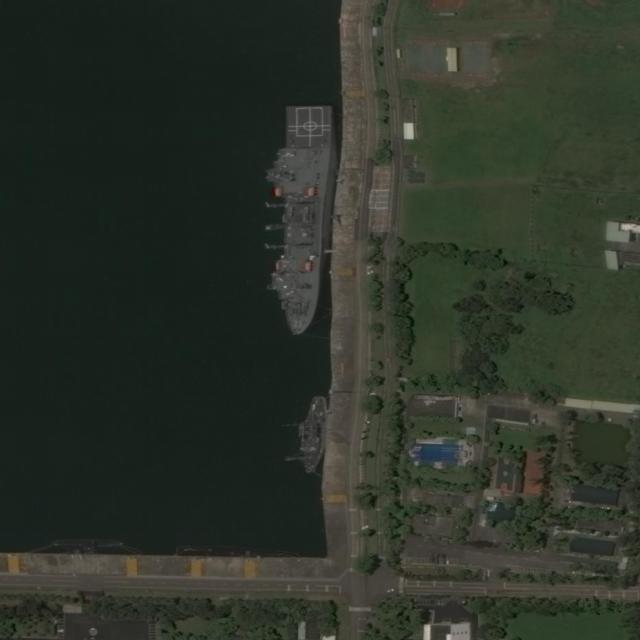Commander: (264, 96, 332, 335)
Other Ship: (297, 399, 328, 473)
